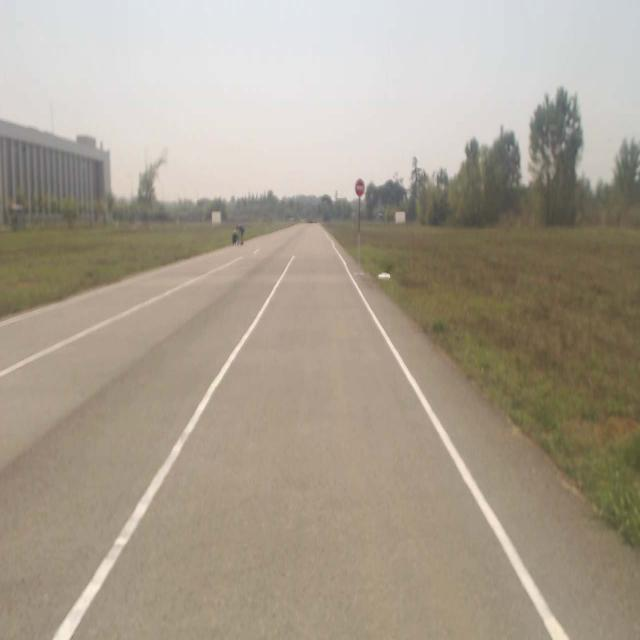girisyok: (355, 178, 365, 198)
